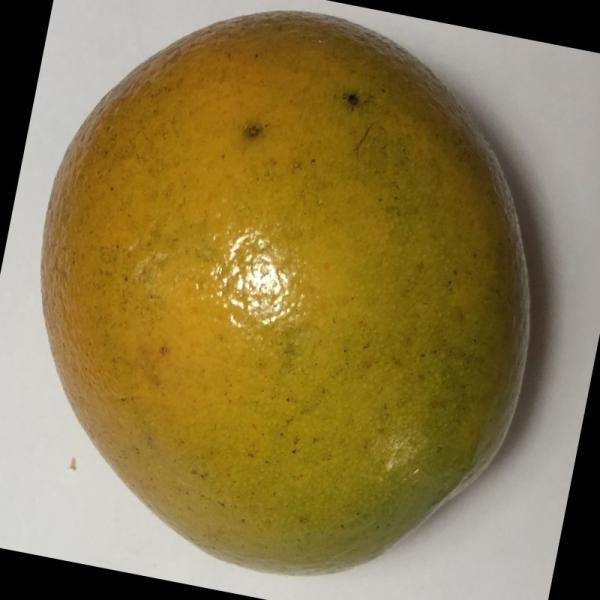Machas negras: (23, 0, 551, 574)
